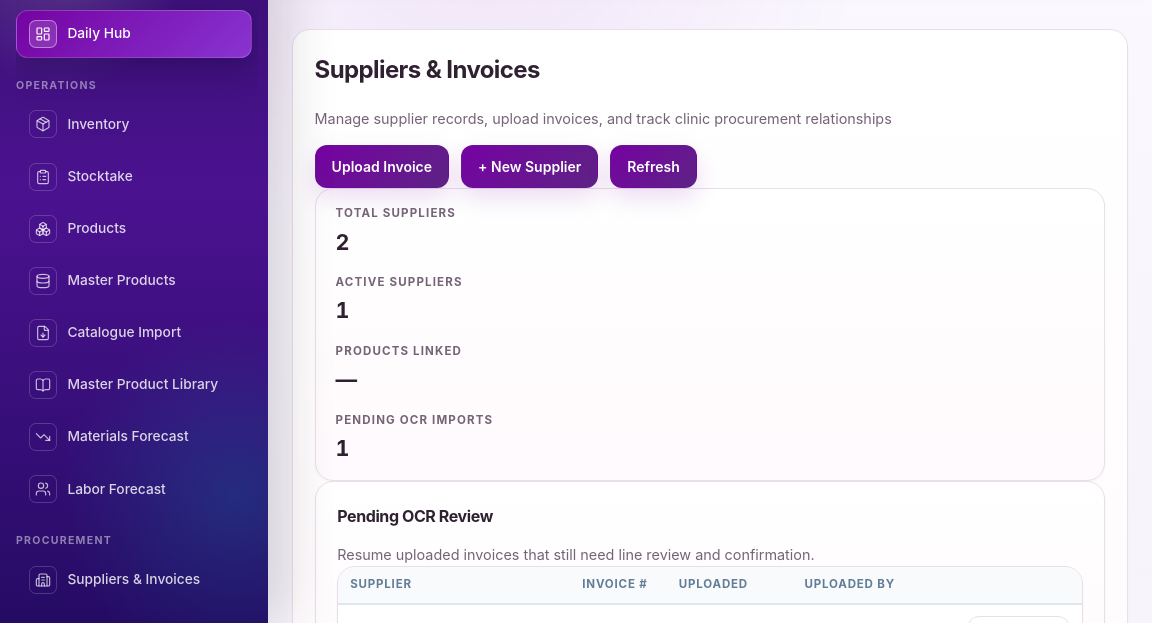
SuppliersPage › creates a new supplier and adds it to the list
The width and height of the screenshot is (1152, 623).
Click the button "+ New Supplier" at (530, 167), box [461,145,598,188]
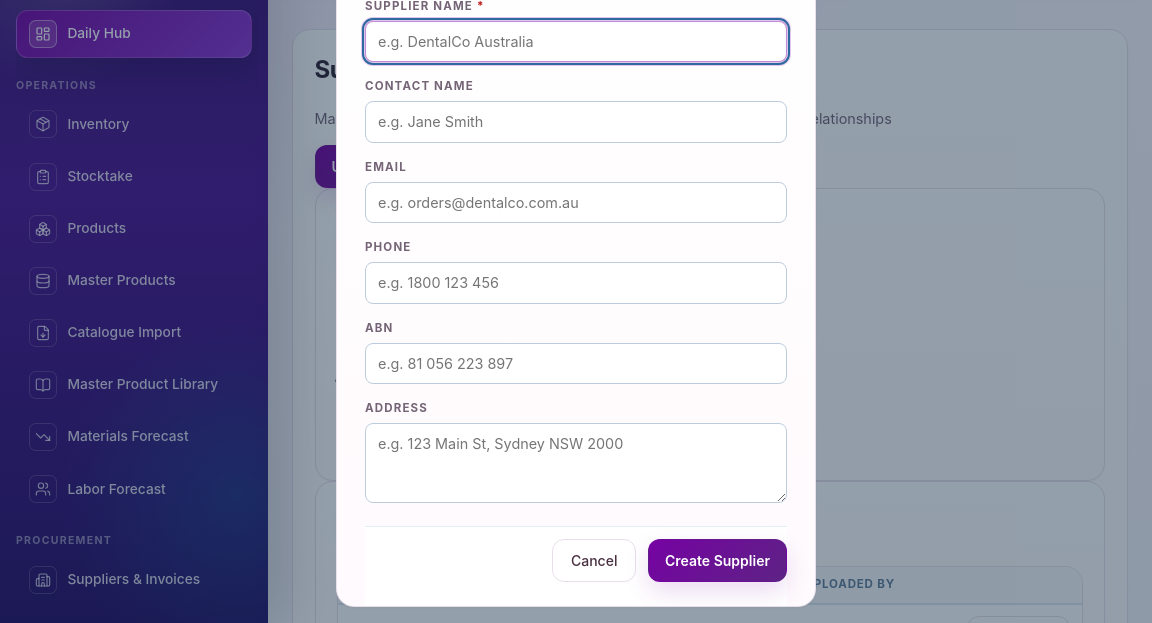
Type "New Supplier Co" into the field with placeholder "e.g. DentalCo Australia" at (576, 42), box [365,21,787,62]
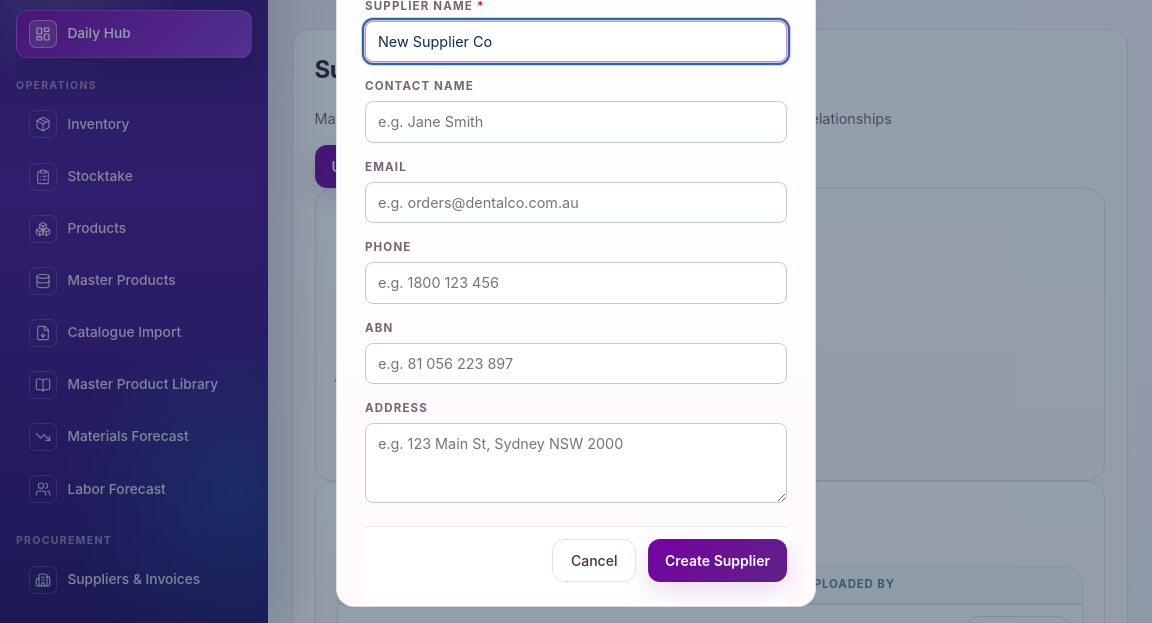
Click the button "Create Supplier" at (718, 561), box [648,539,787,582]
(page scrolled)
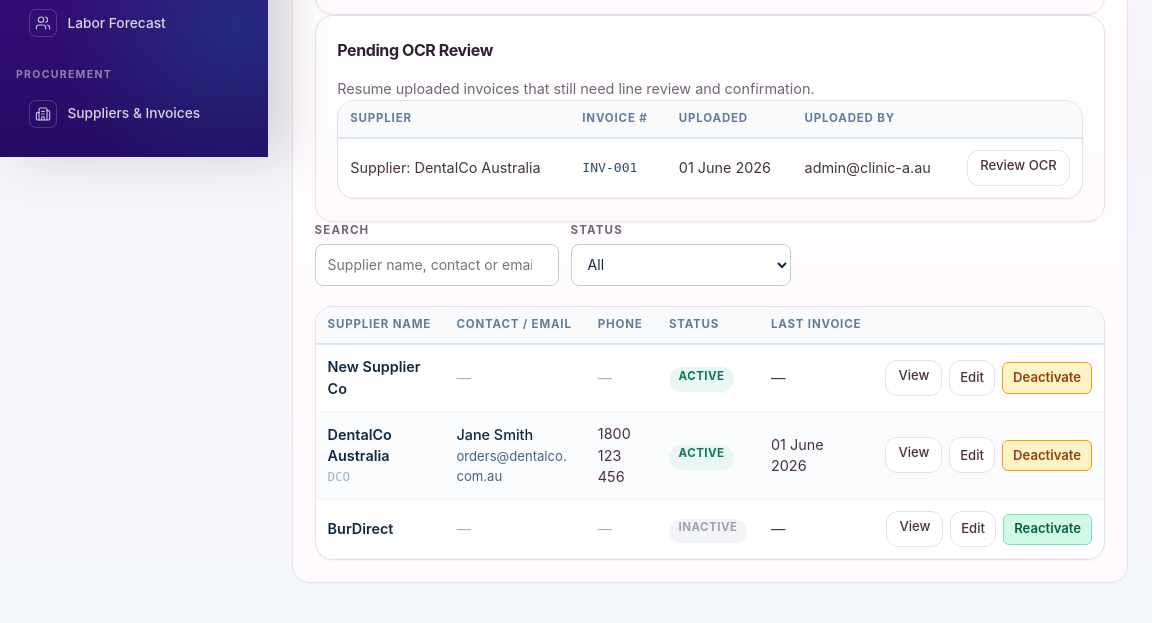
Expected: the text "New Supplier Co" is shown, [328,356,432,400]
